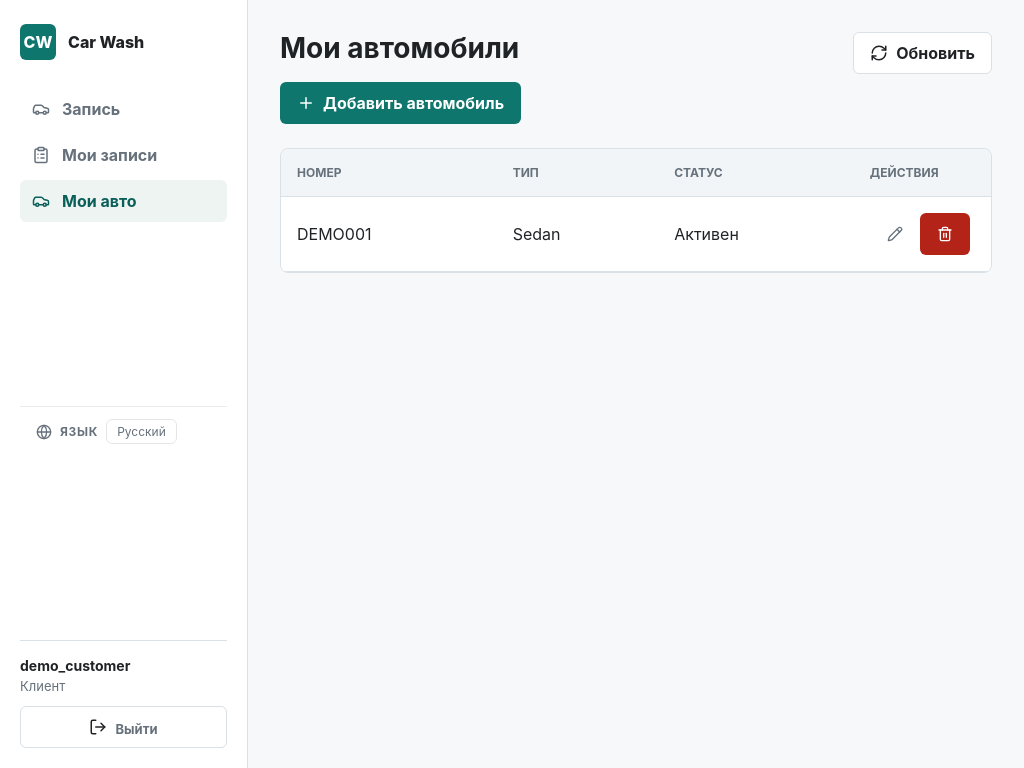
Test: App › validates car form input
Expected: the text "DEMO001" is shown, [281, 196, 497, 271]
Click the button "Добавить автомобиль": (401, 103) [280, 82, 521, 124]
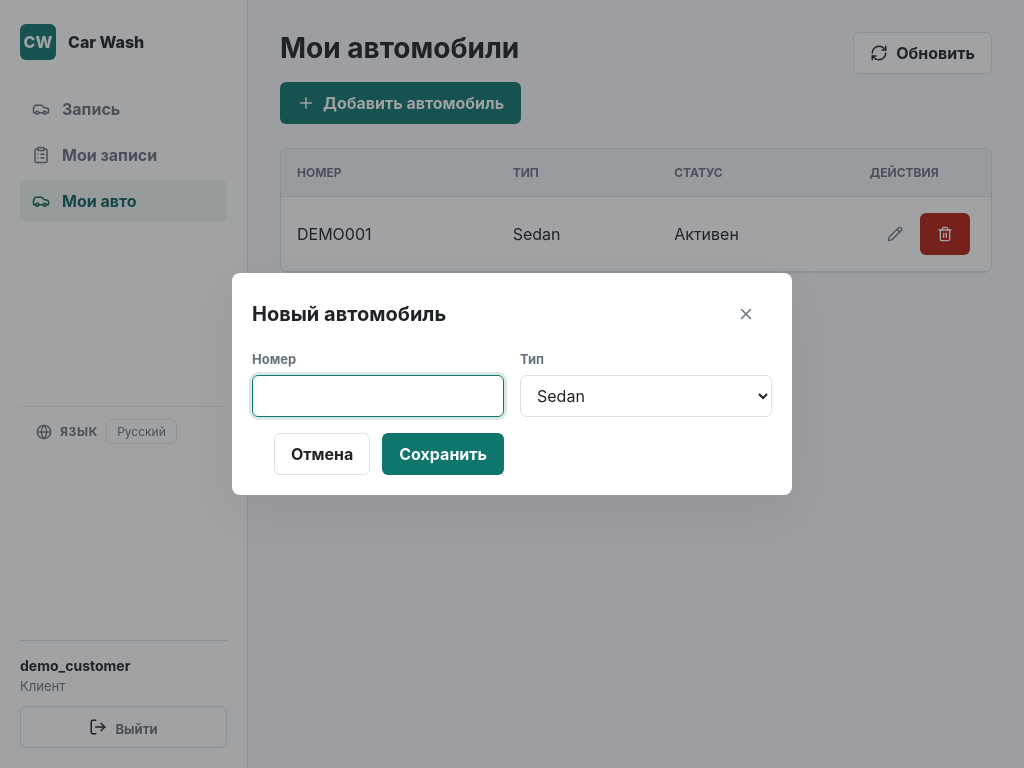
Click the button "Сохранить": (443, 454) [382, 433, 504, 475]
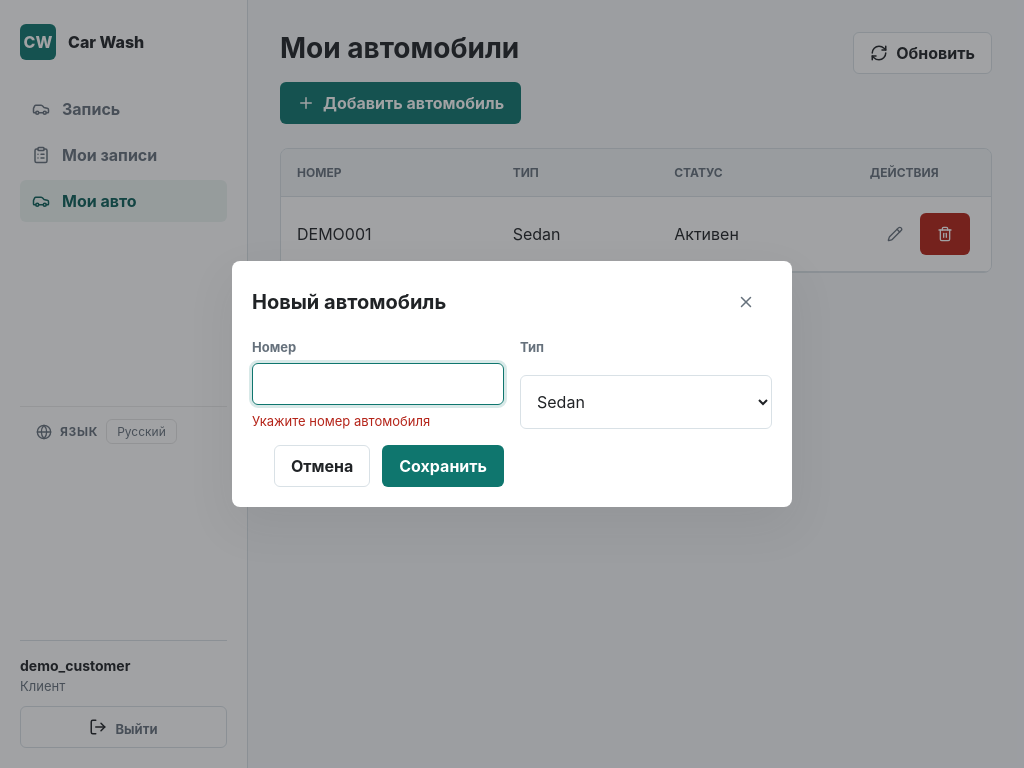
Expected: the text "Укажите номер автомобиля" is shown, [252, 413, 430, 429]
